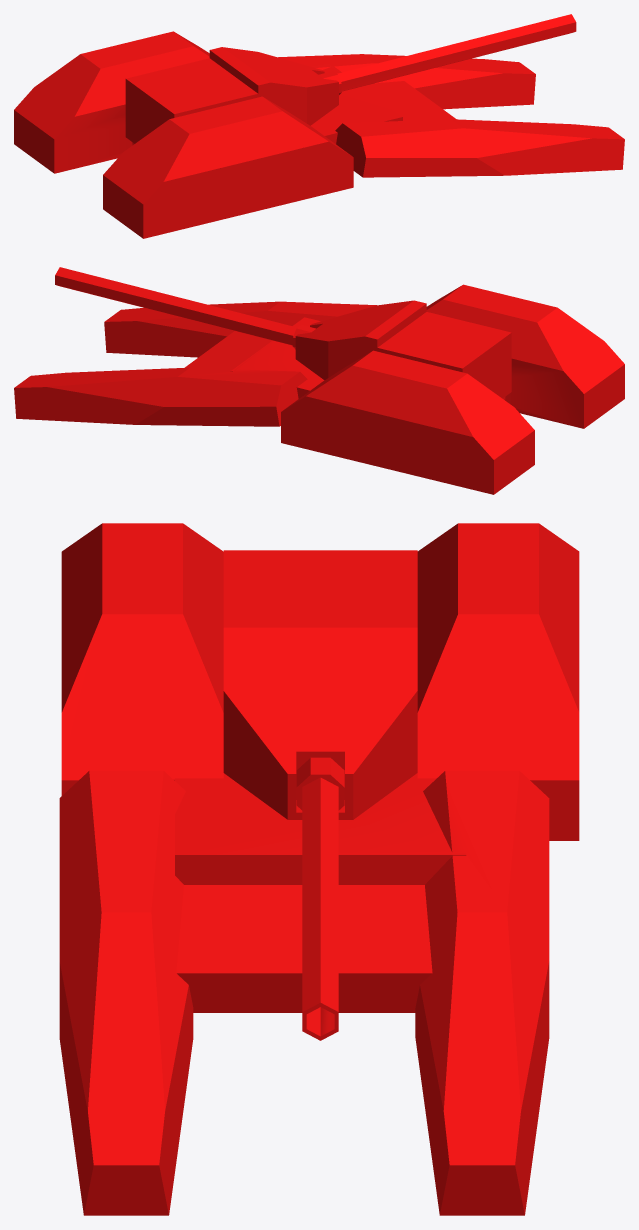
The model's file is tank2.obj.
The picture shows the model from 3 angles, top to bottom: view 1: azimuth 30°, elevation 25°; view 2: azimuth 150°, elevation 25°; view 3: azimuth 270°, elevation 25°; orthographic projection. The views are drawn at different scales.
Parts seen in each view (by area): view 1: Box001; view 2: Box001; view 3: Box001.
Part boxes in pixels (box(x1,y1,x2,y2)): Box001: box(14, 14, 624, 238); Box001: box(14, 267, 624, 494); Box001: box(59, 523, 579, 1215).
Size of the model in its own units: 56.32 by 15.18 by 25.71.
